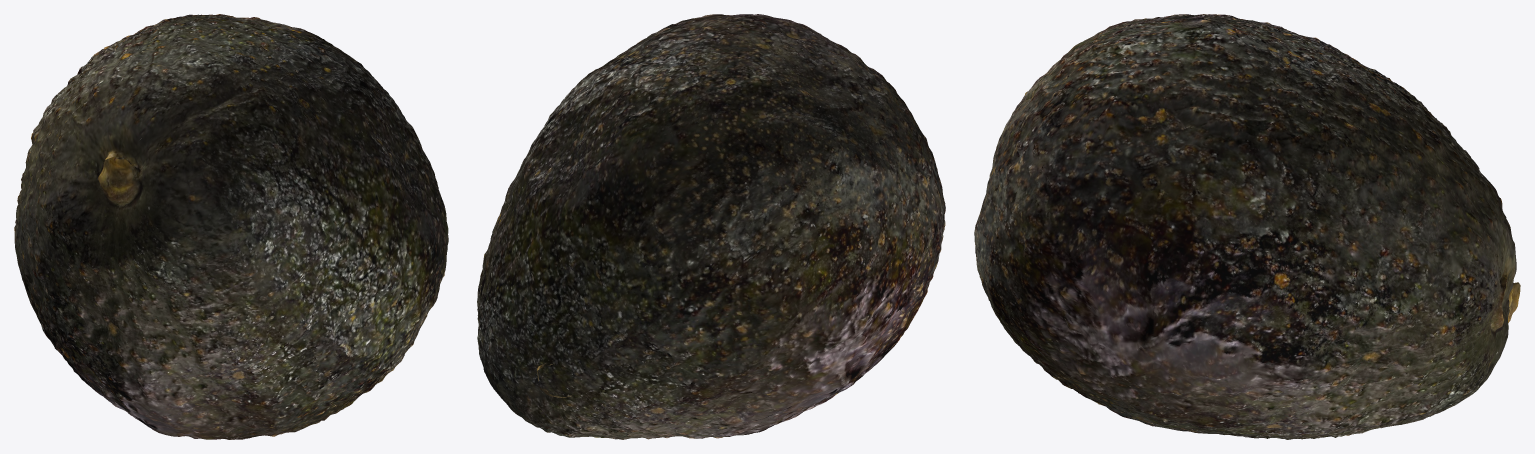
Rendered from Focus detailed scan avocado test .glb.
The picture shows the model from 3 angles, left to right: view 1: azimuth 30°, elevation 25°; view 2: azimuth 150°, elevation 25°; view 3: azimuth 270°, elevation 25°; orthographic projection. The views are drawn at different scales.
Size of the model in its own units: 0.0806 by 0.0809 by 0.104.
Materials: 1 (1 with a texture image).
